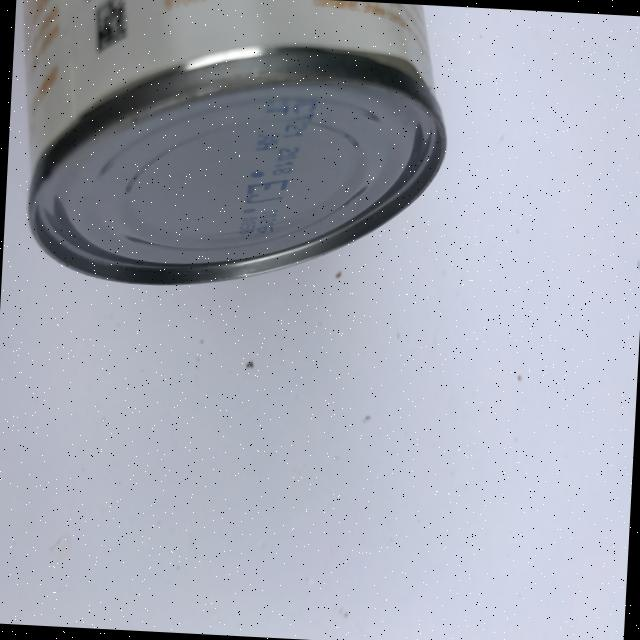metal: (7, 0, 454, 301)
